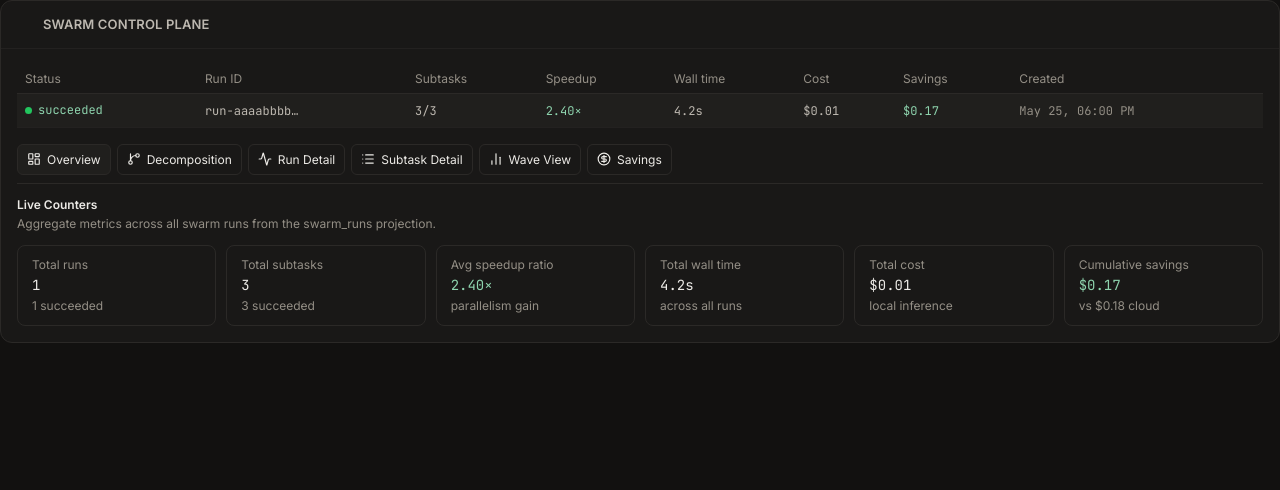
SwarmControlPlane › switches to decomposition tab and shows decomposition tree
Click the tab "Decomposition" at (179, 159), box [117,144,242,175]
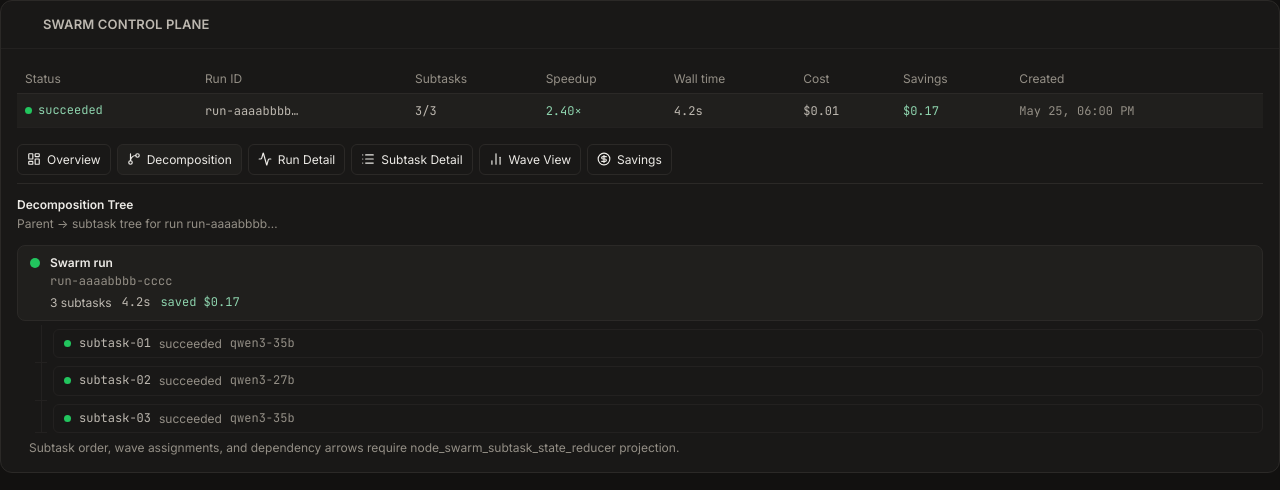
Expected: the text "Swarm run" is shown, [50,255,113,270]
Result: the text "run-aaaabbbb-cccc" is shown at [50,273,172,289]
